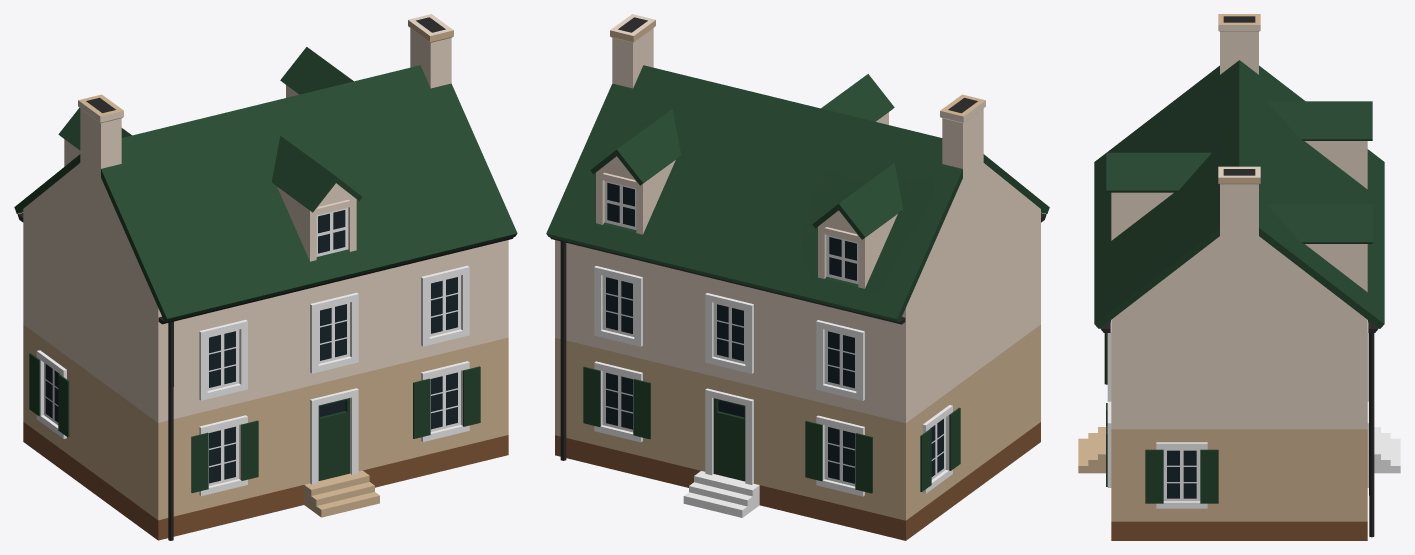
File: building-house-middle.glb
The picture shows the model from 3 angles, left to right: view 1: azimuth 30°, elevation 25°; view 2: azimuth 150°, elevation 25°; view 3: azimuth 270°, elevation 25°; orthographic projection. The views are drawn at different scales.
Parts seen in each view (by area): view 1: building-house-middle; view 2: building-house-middle; view 3: building-house-middle.
Part boxes in pixels (box(x1,y1,x2,y2)): building-house-middle: box(14, 14, 517, 540); building-house-middle: box(546, 14, 1049, 540); building-house-middle: box(1078, 14, 1400, 540).
Size of the model in its own units: 9.72 by 9.88 by 7.92.
1 material, 1 textured.
